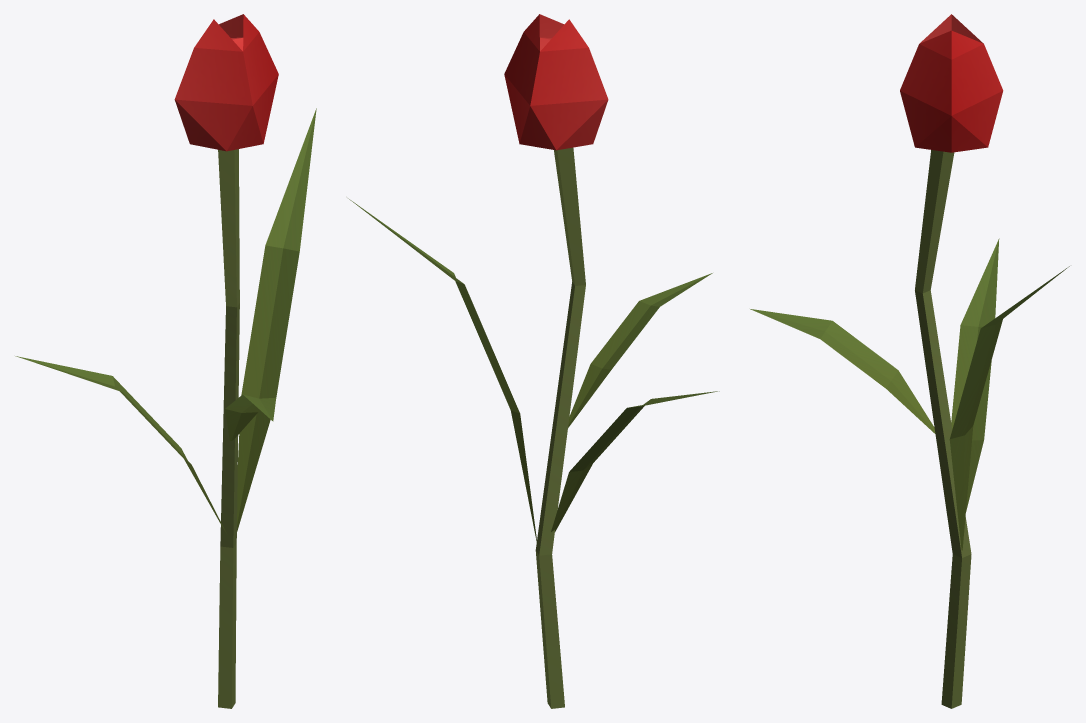
The model's file is Plant_8.fbx.
3 renders of one model, left to right at view 1: azimuth 30°, elevation 25°; view 2: azimuth 150°, elevation 25°; view 3: azimuth 270°, elevation 25°, orthographic.
Visible parts, largest first — view 1: polySurface10623; view 2: polySurface10623; view 3: polySurface10623.
Boxes of the visible parts, x1,y1,x2,y2 form: polySurface10623: (15, 14, 316, 708); polySurface10623: (348, 14, 719, 708); polySurface10623: (750, 14, 1069, 708).
Bounding box in the file's own units: 65.2 × 127 × 54.14.
